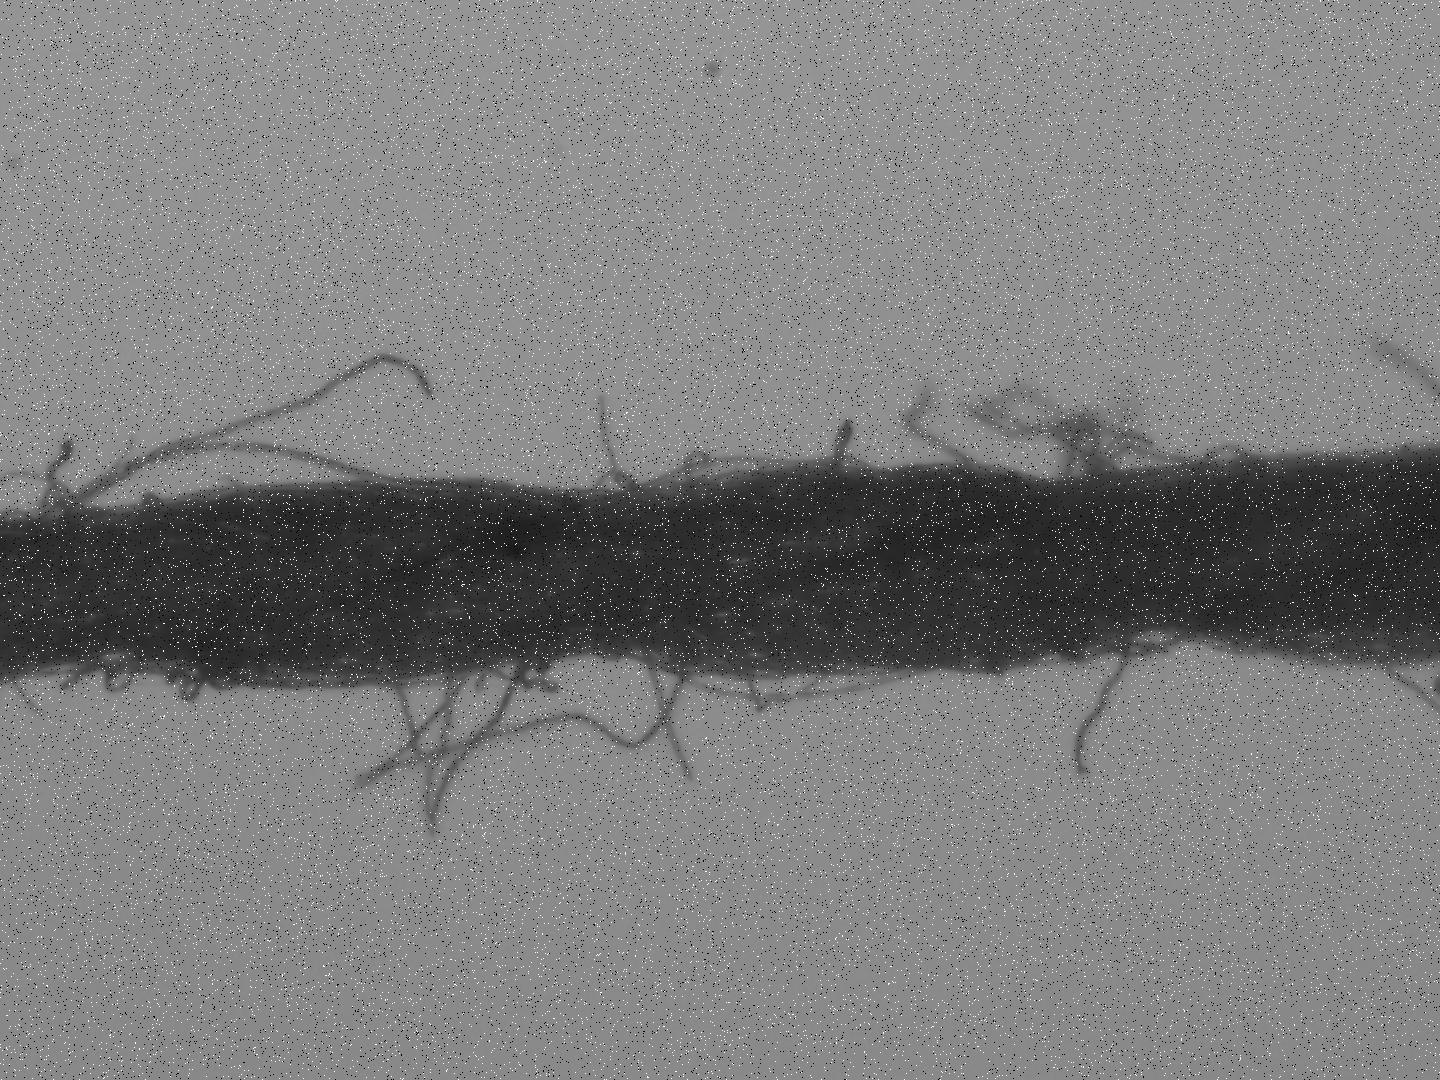loop_fiber: (68, 440, 407, 524), (681, 667, 926, 700), (620, 456, 801, 497), (1095, 630, 1194, 660), (1101, 449, 1196, 480), (388, 664, 482, 692), (802, 453, 878, 474), (1205, 444, 1262, 467)
protruding_fiber: (40, 355, 434, 522), (430, 661, 533, 833), (1077, 640, 1130, 778), (651, 653, 693, 781), (601, 397, 632, 495)
